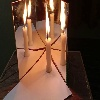fire: (45, 7, 51, 40)
